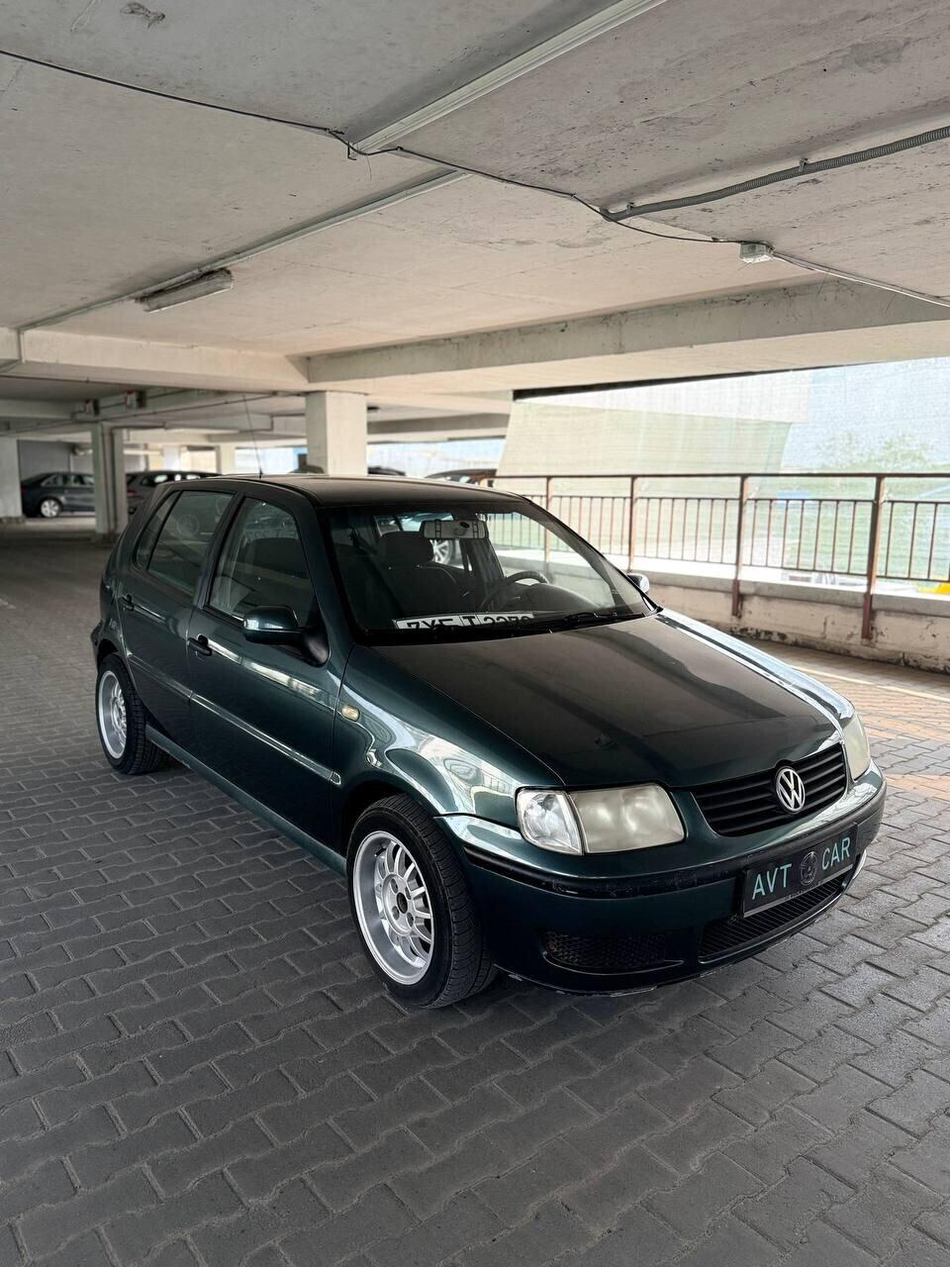Polo_2000-2002: (89, 468, 899, 1057)
